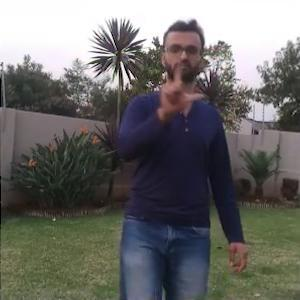land_hand: (155, 54, 206, 120)
